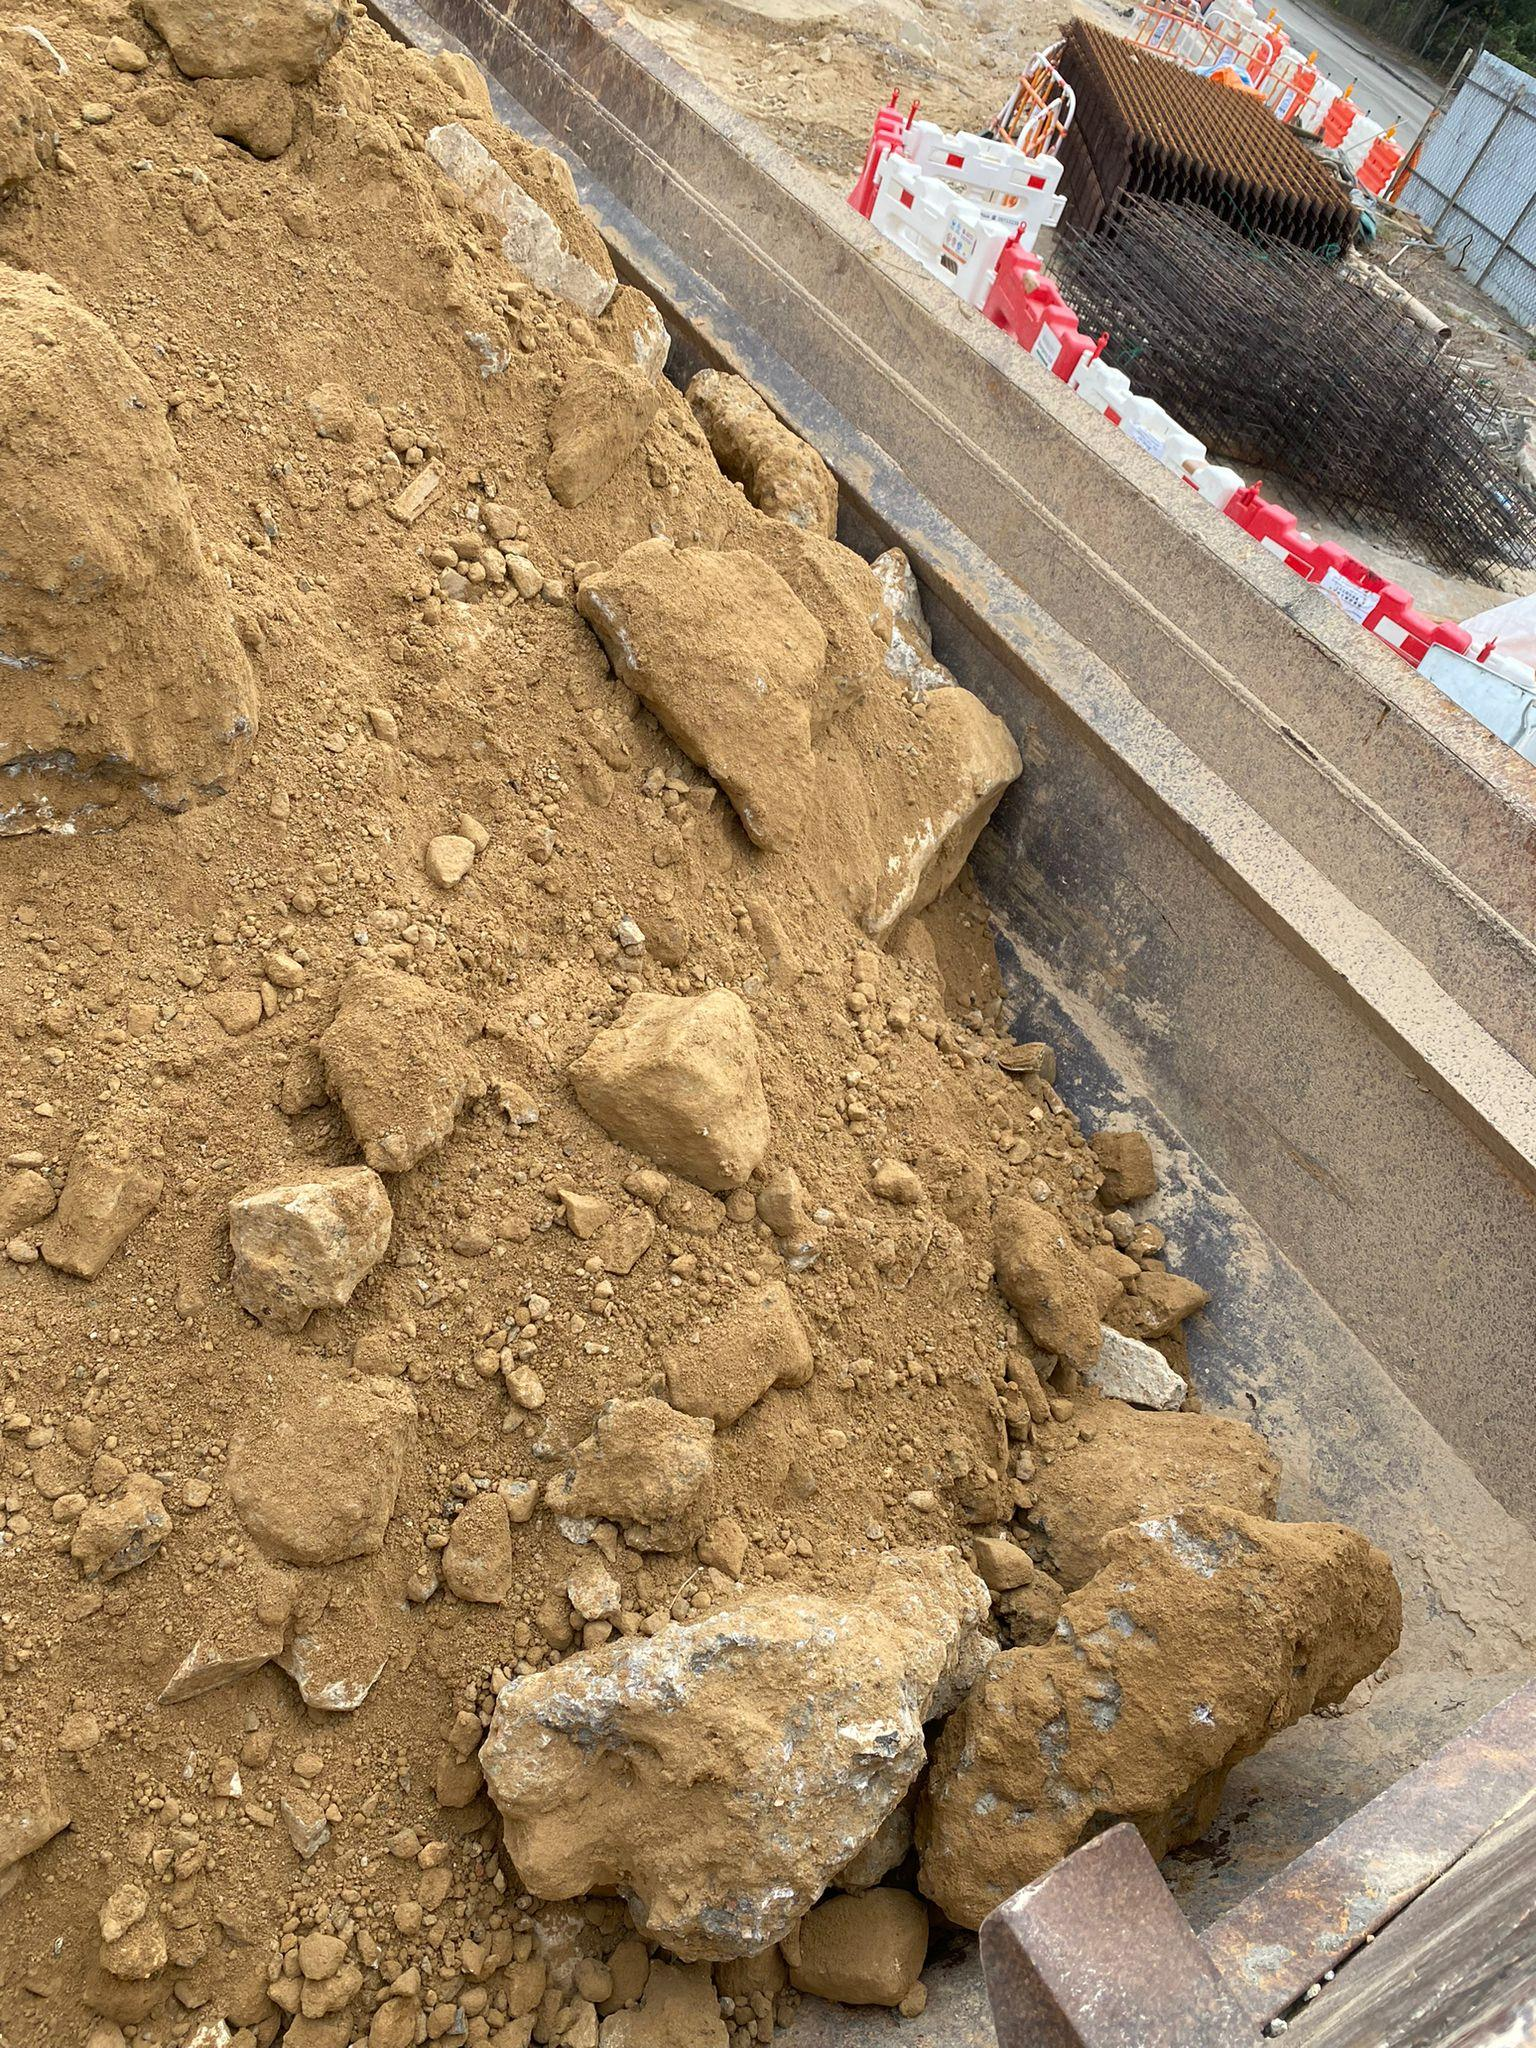dry: (10, 0, 1360, 2048)
